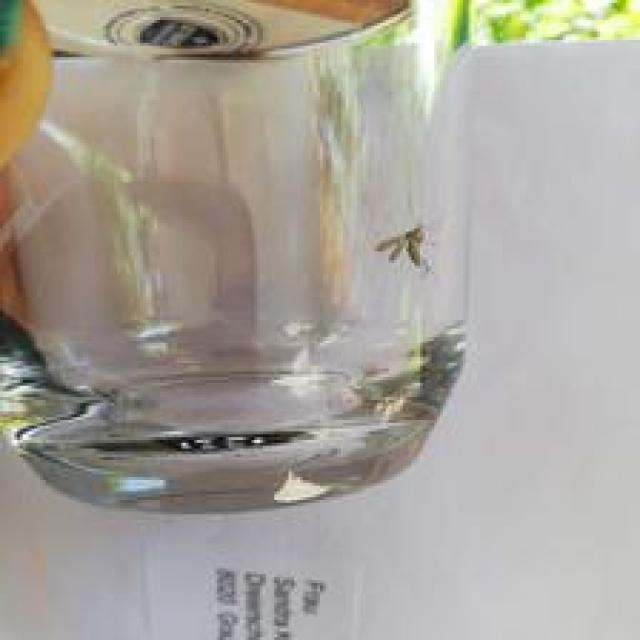Culex: (1, 0, 475, 514)
